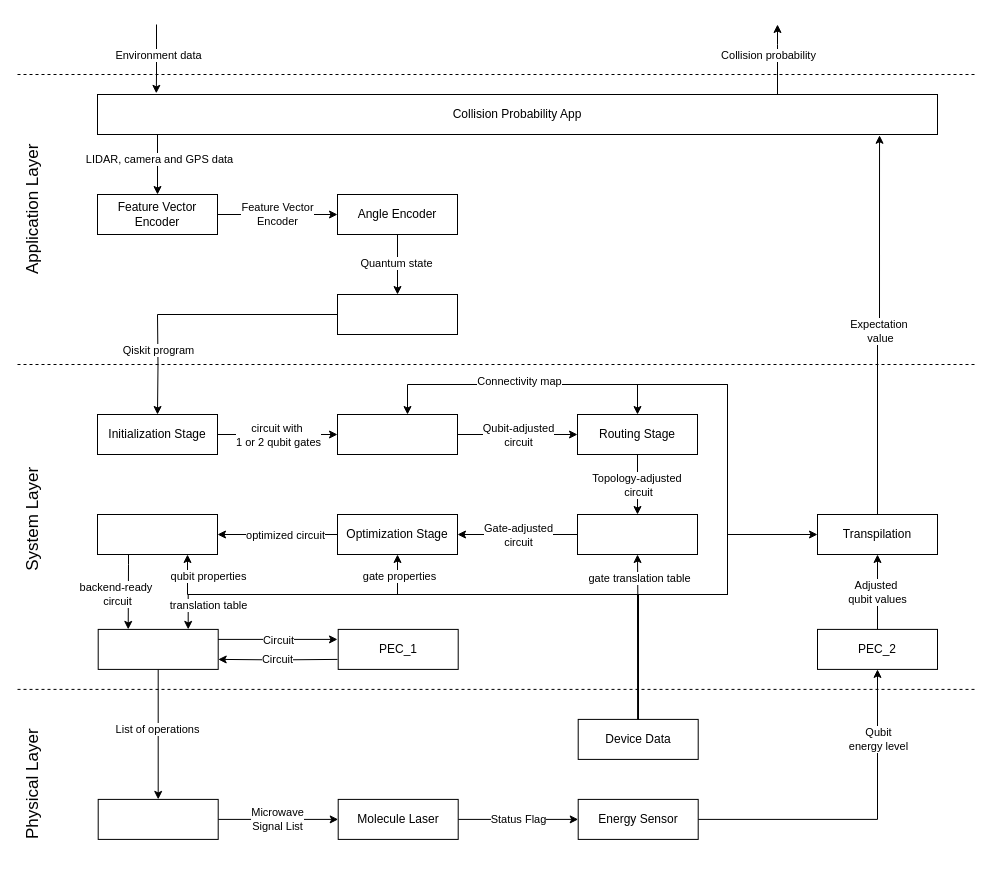
The diagram is 997 pixels wide and 896 high, and some of its shapes have lost their labels. The shapes that lost their labels are listed below. From the top down, each one's centre as x and y in pixels, then its label:
point (397, 314): Quantum Kernel Method
point (397, 434): Layout Stage
point (157, 534): Scheduling Stage
point (637, 534): Translation Stage
point (157, 648): Circuit-Command mapping
point (157, 818): Superconducting Device and Firmware
